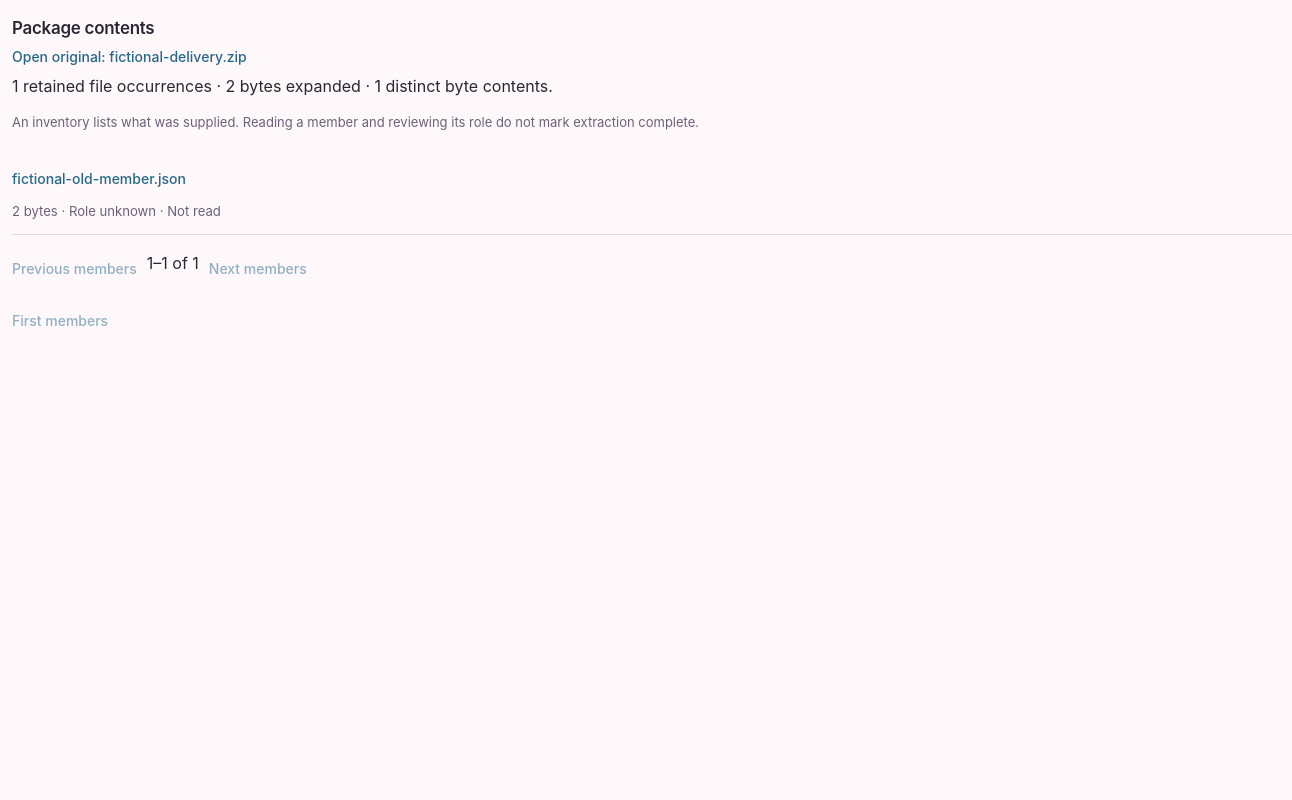
Test: drops a late member read when the profile changes, even if the member ID is reused
Click the button "fictional-old-member.json". click: (99,179)
box: x1=12 y1=161 x2=186 y2=197
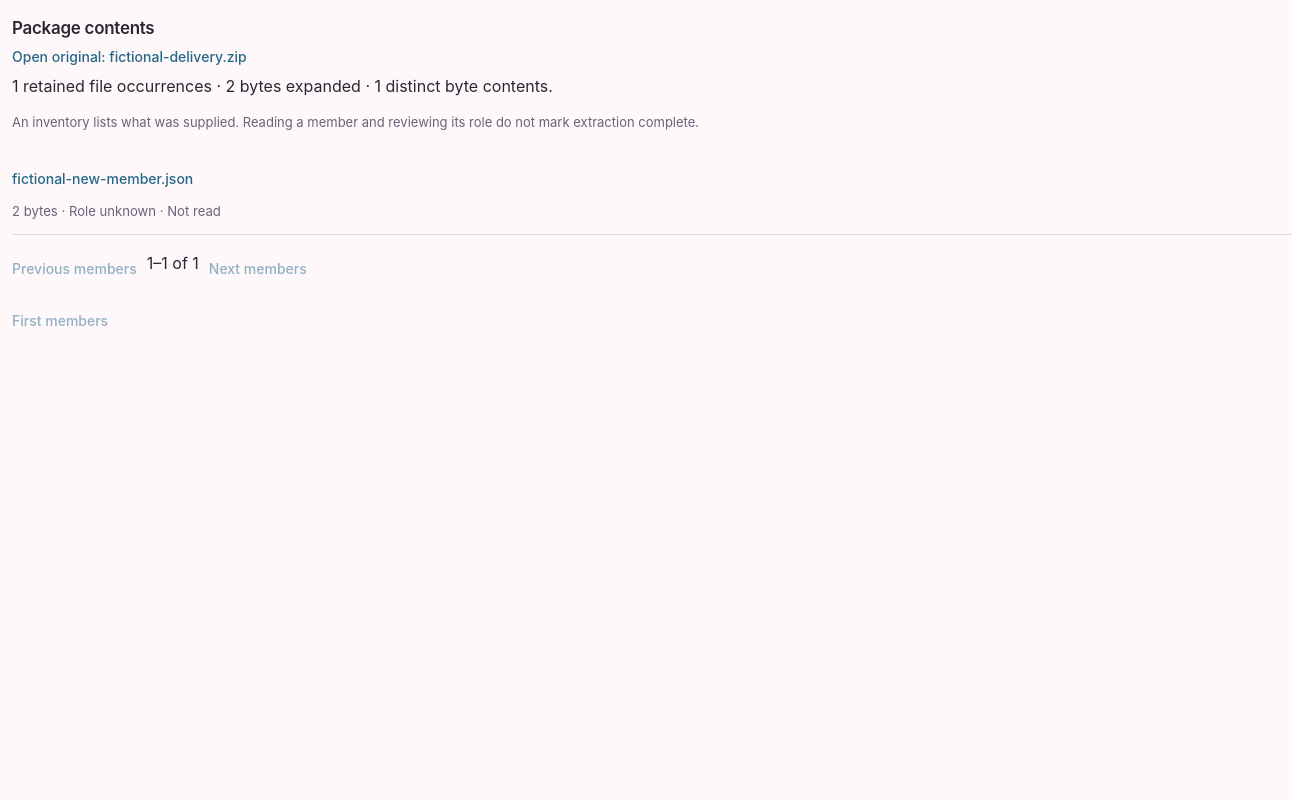
Expected: the button "fictional-new-member.json" is shown
Click the button "fictional-new-member.json". click: (103,179)
box: x1=12 y1=161 x2=193 y2=197
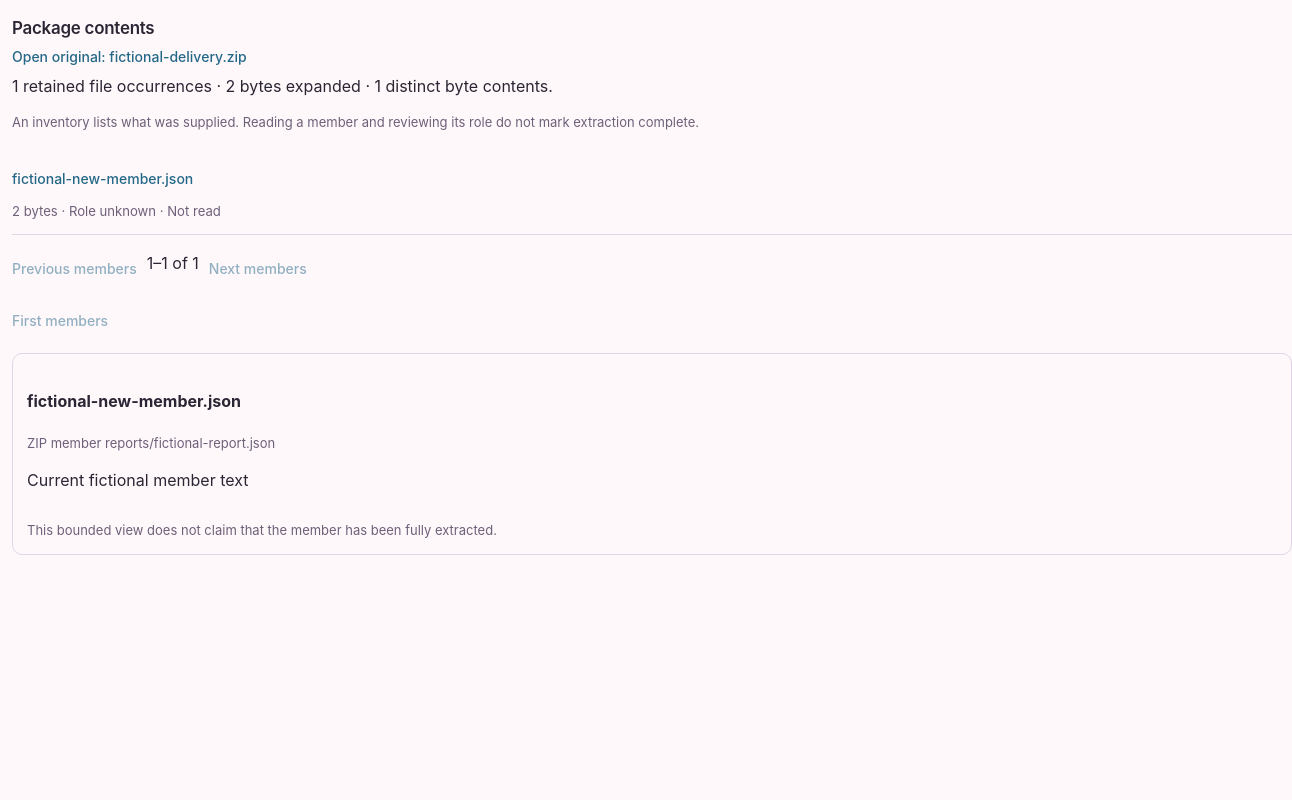
Expected: the text "Current fictional member text" is shown, x1=27 y1=470 x2=248 y2=490
